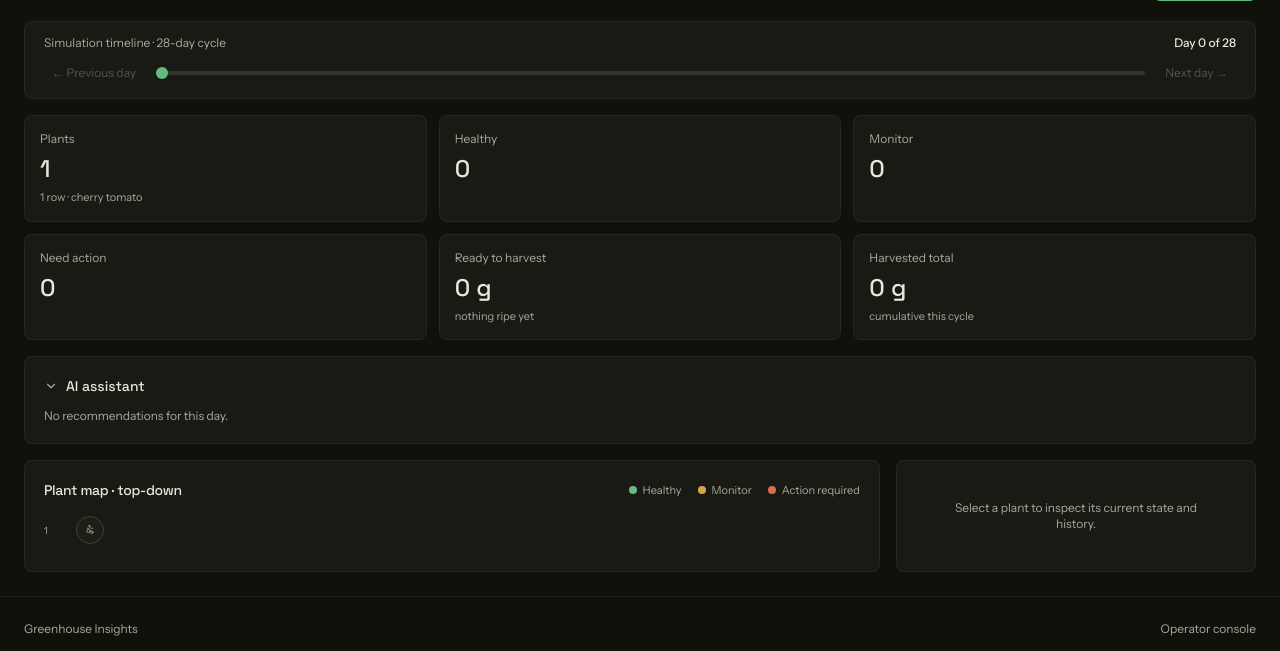
GreenhouseDashboardPage › selecting a plant fetches and shows its detail
(page scrolled)
Click the button named "plant_017". click: (90,530)
box: [76,516,104,544]
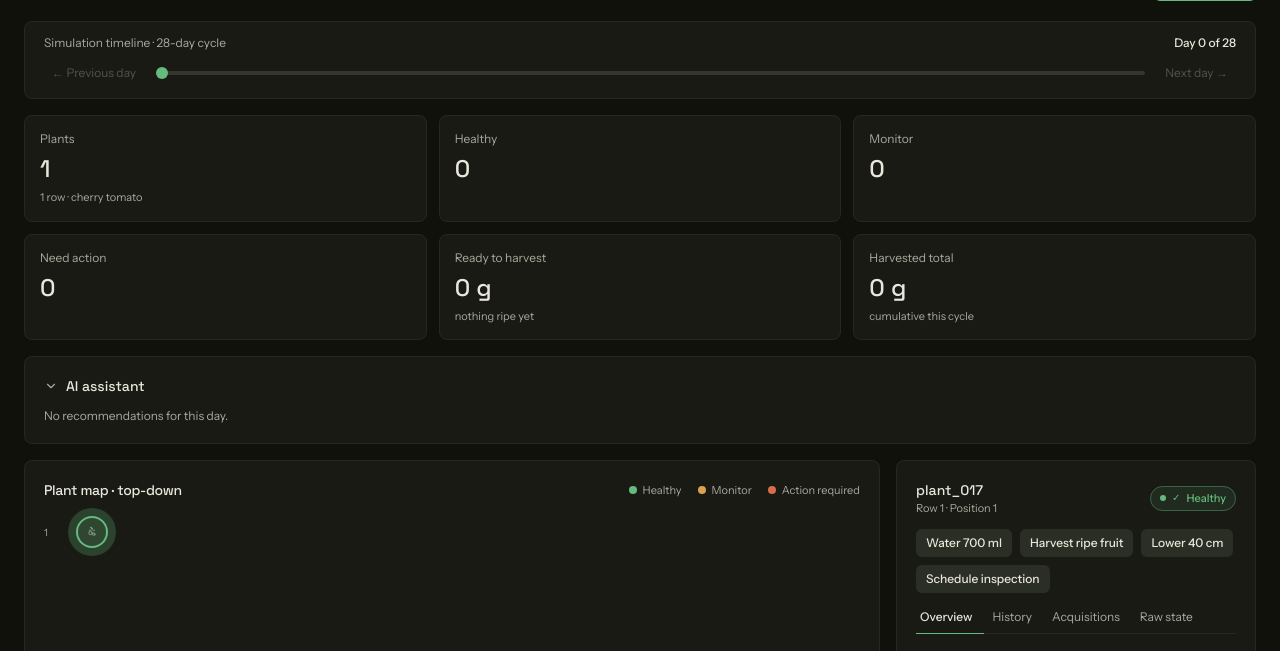
Check: the text "Row 1 · Position 1" is shown, box [916,500,997,516]
